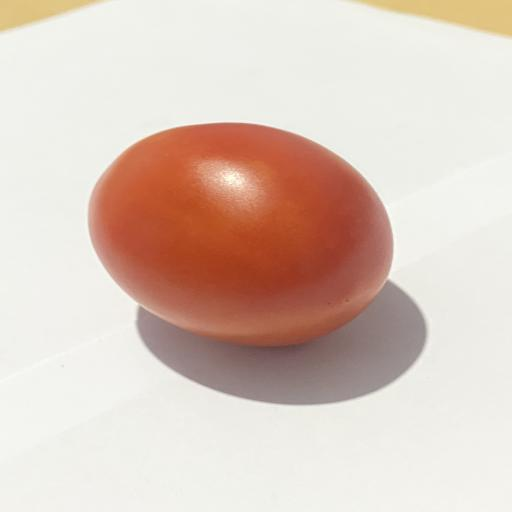ripe: (88, 123, 393, 346)
